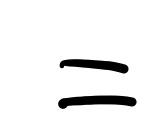eqv: (53, 55, 138, 109)
